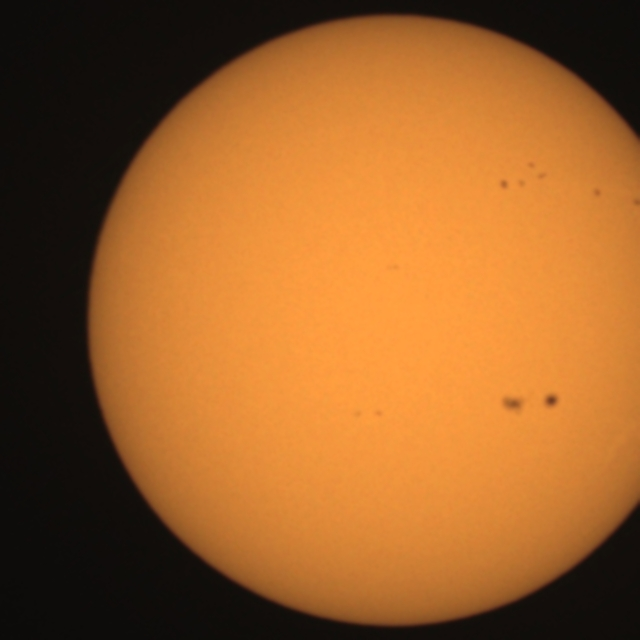sunspot: (500, 388, 562, 416), (498, 163, 548, 192), (498, 392, 527, 417), (520, 160, 548, 183), (350, 406, 386, 422), (541, 390, 562, 412), (384, 261, 402, 274), (590, 186, 604, 200), (632, 196, 640, 209)
